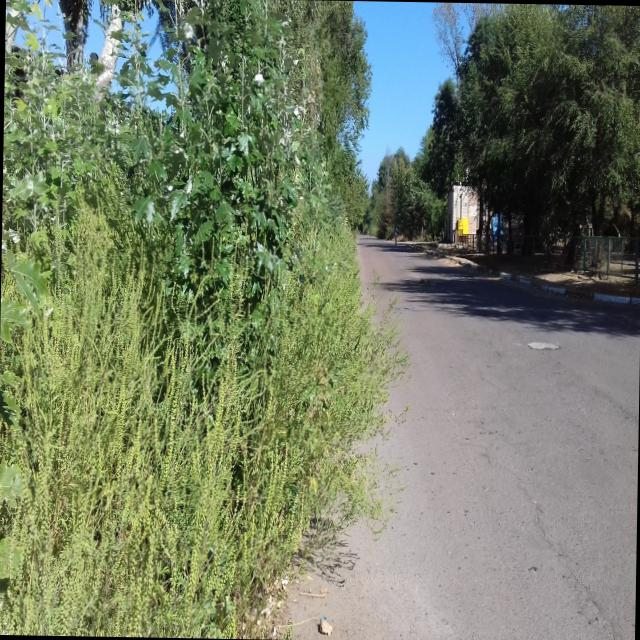ambrosia: (187, 262, 388, 548), (15, 210, 148, 618)
